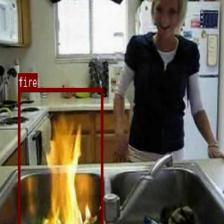fire: (17, 87, 103, 224)
